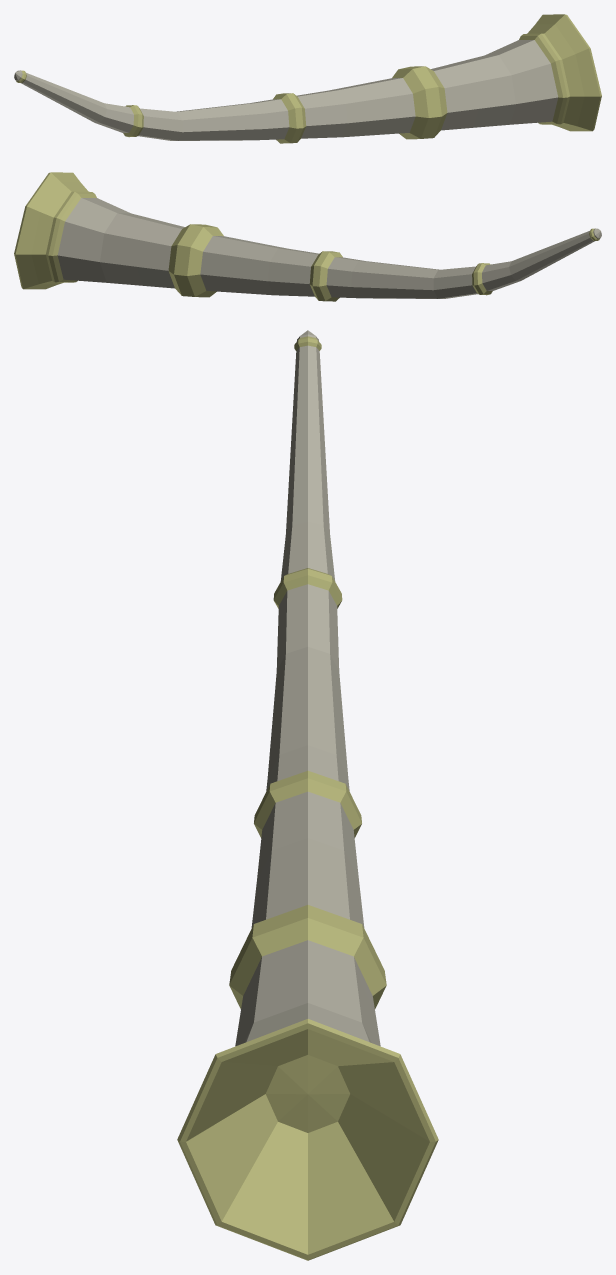
Rendered from Trompeta.fbx.
The picture shows the model from 3 angles, top to bottom: view 1: azimuth 30°, elevation 25°; view 2: azimuth 150°, elevation 25°; view 3: azimuth 270°, elevation 25°; orthographic projection. The views are drawn at different scales.
Visible parts, largest first — view 1: Trompeta; view 2: Trompeta; view 3: Trompeta.
Part boxes in pixels (x1,y1,x2,y2): Trompeta: [14, 14, 601, 143]; Trompeta: [14, 172, 601, 301]; Trompeta: [177, 330, 438, 1260].
Size of the model in its own units: 11.8 by 3.94 by 2.4.
